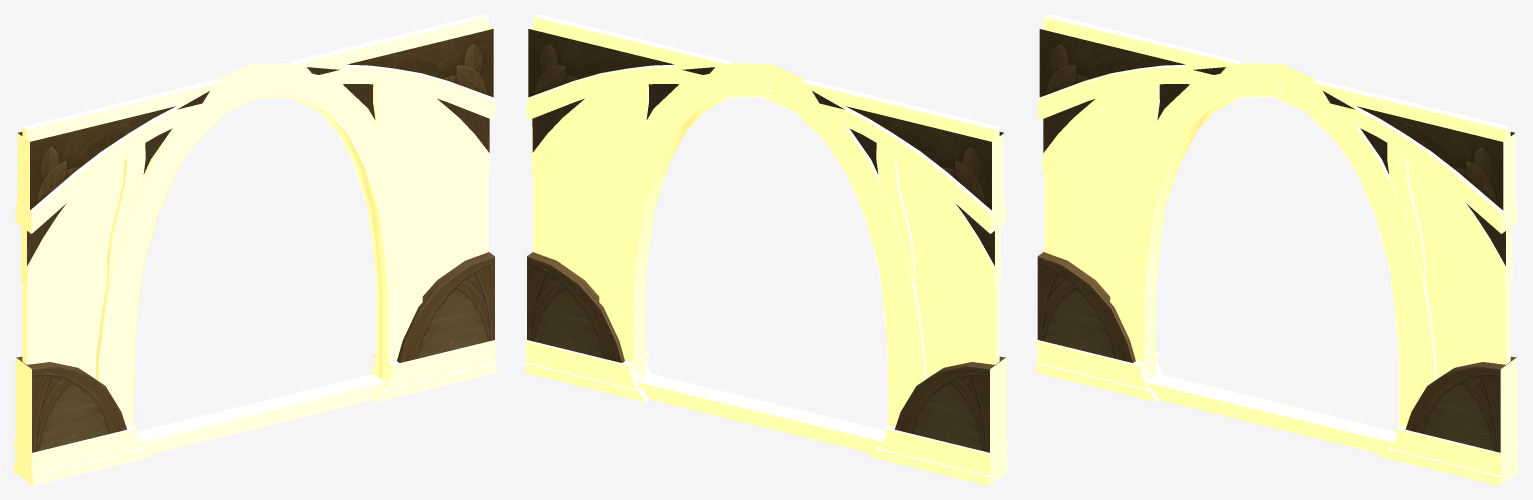
File: Homeworld_Interior_Xm_Room_Door_03_01_Vo.fbx
3 views of the same model, side by side, from view 1: azimuth 30°, elevation 25°; view 2: azimuth 150°, elevation 25°; view 3: azimuth 330°, elevation 25° (orthographic).
Visible parts, largest first — view 1: Homeworld_Interior_Xm_Room_Door_03_01_Vo; view 2: Homeworld_Interior_Xm_Room_Door_03_01_Vo; view 3: Homeworld_Interior_Xm_Room_Door_03_01_Vo.
Part boxes in pixels (x1,y1,x2,y2): Homeworld_Interior_Xm_Room_Door_03_01_Vo: (14, 14, 496, 485); Homeworld_Interior_Xm_Room_Door_03_01_Vo: (525, 14, 1007, 485); Homeworld_Interior_Xm_Room_Door_03_01_Vo: (1036, 14, 1518, 485).
Bounding box in the file's own units: 5.02 × 3.67 × 0.3587.
